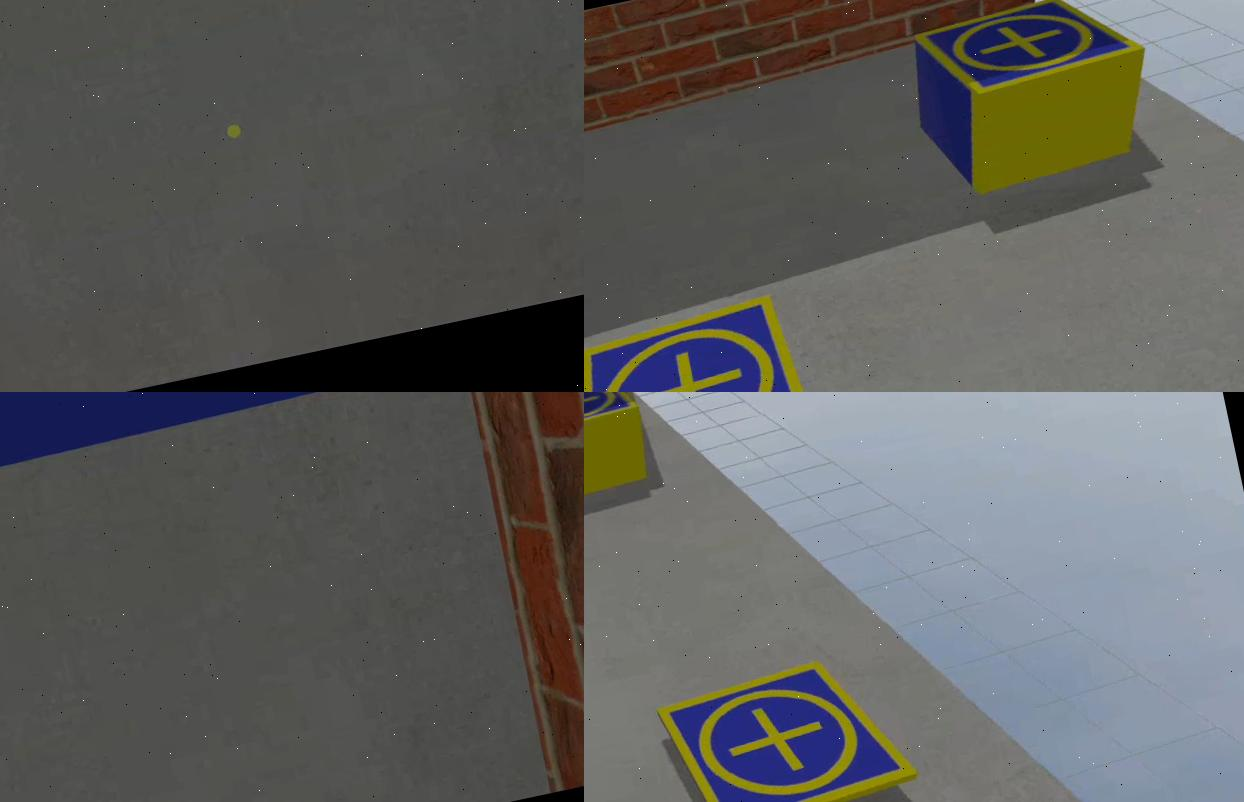large_base: (1, 393, 386, 519)
small_base: (655, 647, 924, 802), (914, 1, 1148, 106), (585, 291, 825, 393), (585, 393, 643, 448)
